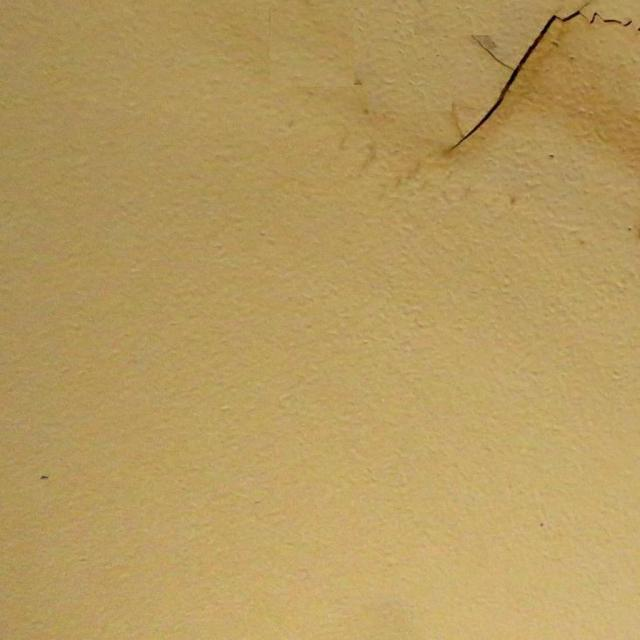crack: (452, 8, 632, 151)
